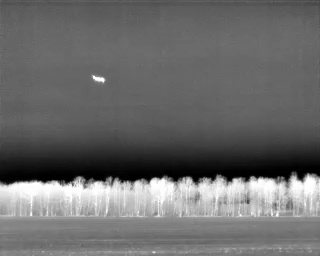DRONE: (88, 70, 109, 87)
